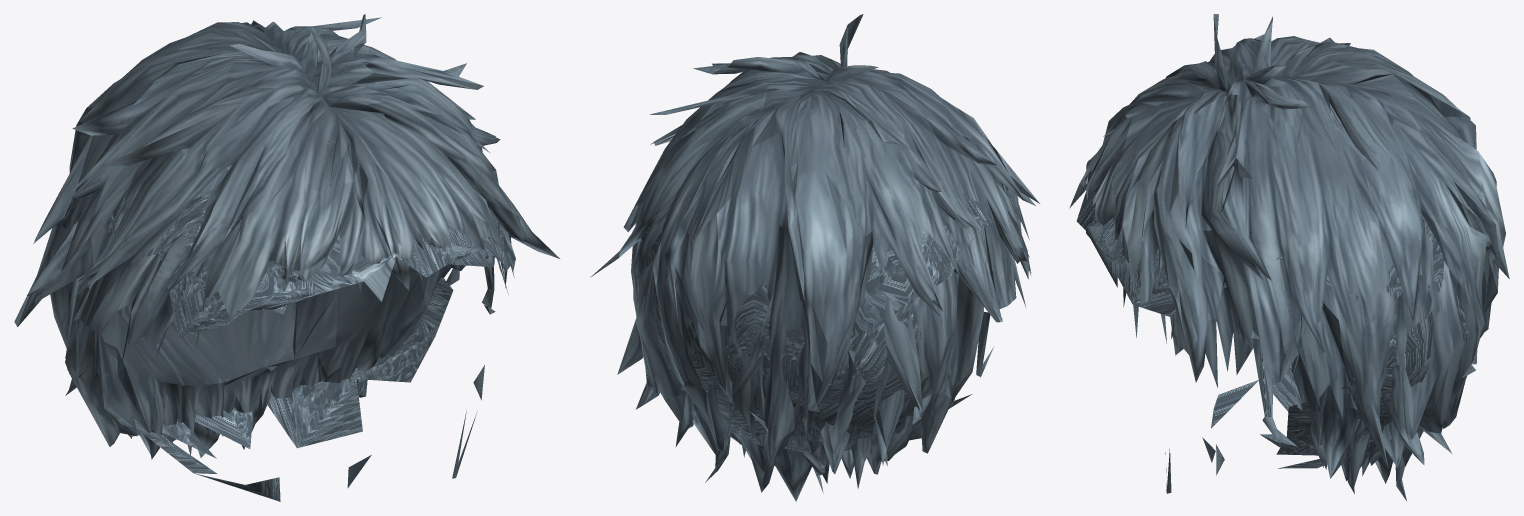
File: curto_baguncado.glb
The picture shows the model from 3 angles, left to right: view 1: azimuth 30°, elevation 25°; view 2: azimuth 150°, elevation 25°; view 3: azimuth 270°, elevation 25°; orthographic projection. The views are drawn at different scales.
Visible parts, largest first — view 1: cabelo_curto_baguncado; view 2: cabelo_curto_baguncado; view 3: cabelo_curto_baguncado.
Part boxes in pixels (bbox=[...]): cabelo_curto_baguncado: bbox=[14, 14, 559, 501]; cabelo_curto_baguncado: bbox=[590, 14, 1039, 501]; cabelo_curto_baguncado: bbox=[1069, 14, 1509, 500].
Bounding box in the file's own units: 0.1635 × 0.1671 × 0.1454.
1 material, 1 textured.
